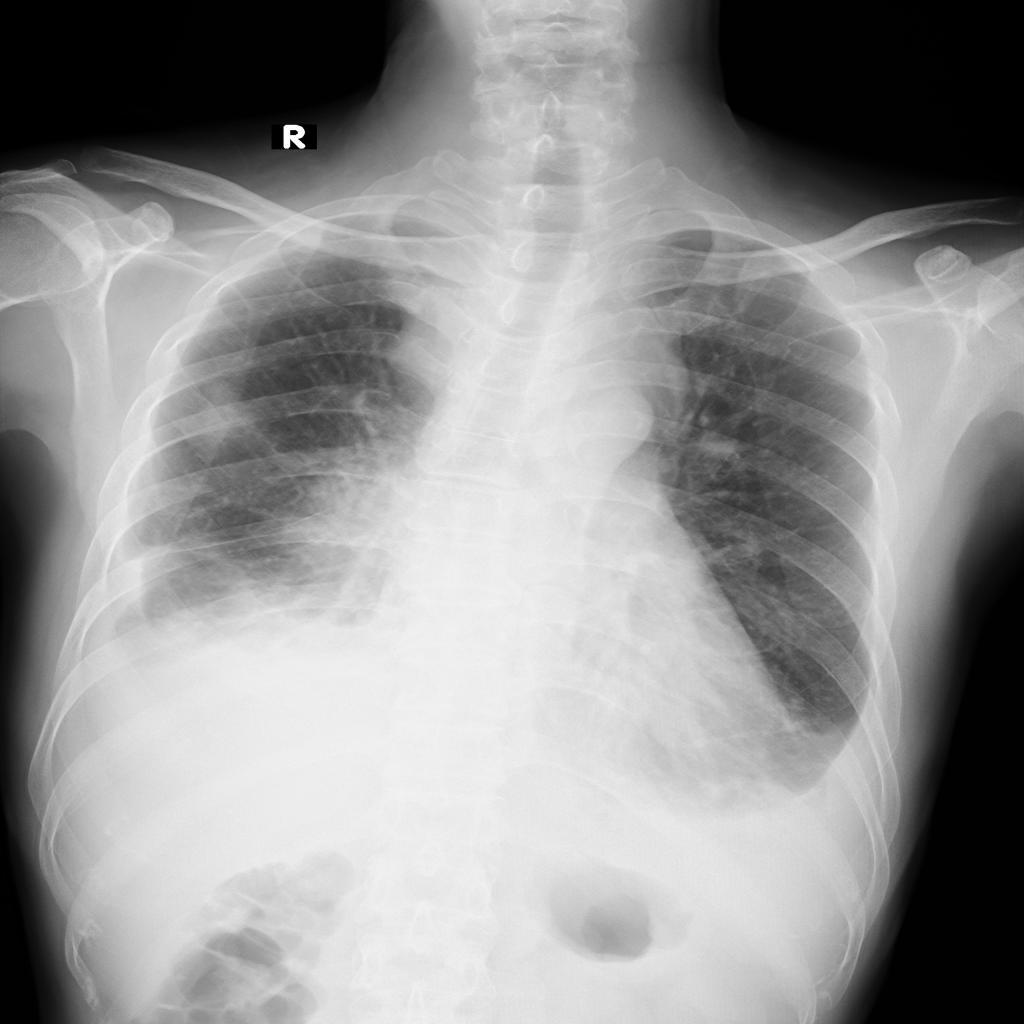Nodule: (389, 302, 468, 409)
